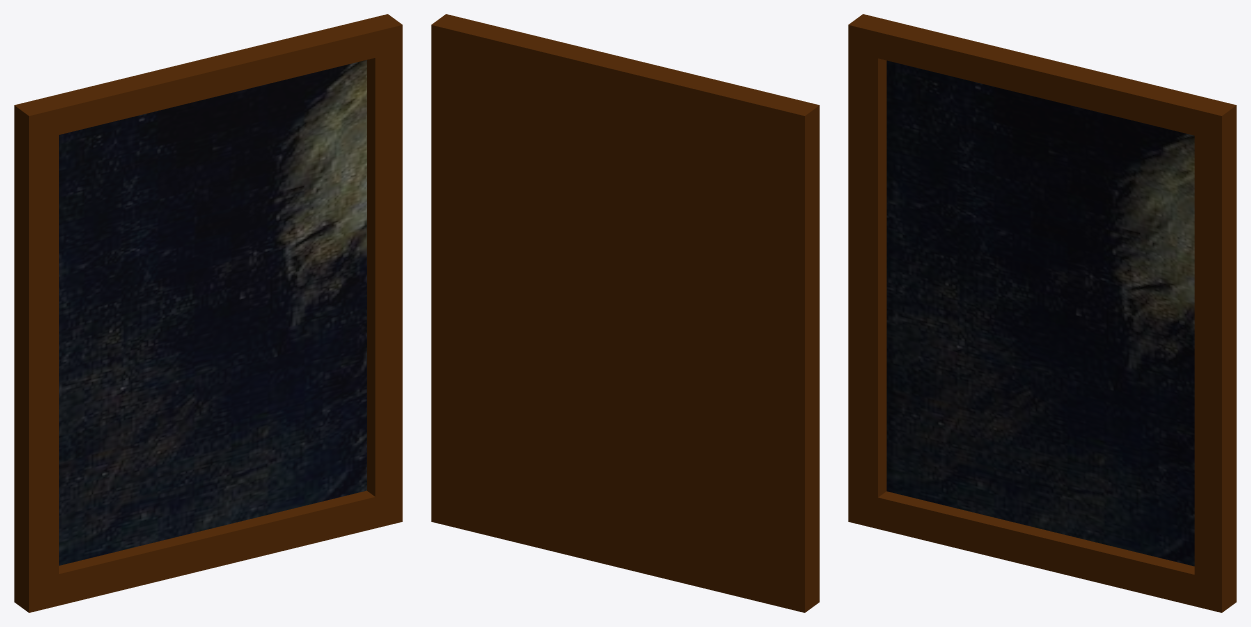
The model's file is Quadro_painter.fbx.
3 views of the same model, side by side, from view 1: azimuth 30°, elevation 25°; view 2: azimuth 150°, elevation 25°; view 3: azimuth 330°, elevation 25° (orthographic).
Parts seen in each view (by area): view 1: pCube1; view 2: pCube1; view 3: pCube1.
Part boxes in pixels (bbox=[...]): pCube1: bbox=[14, 14, 402, 612]; pCube1: bbox=[431, 14, 819, 612]; pCube1: bbox=[848, 14, 1236, 612].
Size of the model in its own units: 4.12 by 5.23 by 0.2845.
2 materials, 1 textured.
